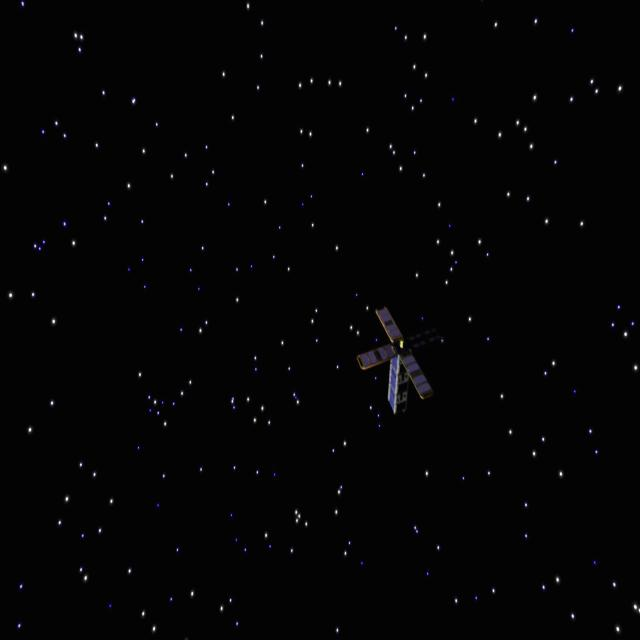satellite: (354, 300, 462, 419)
